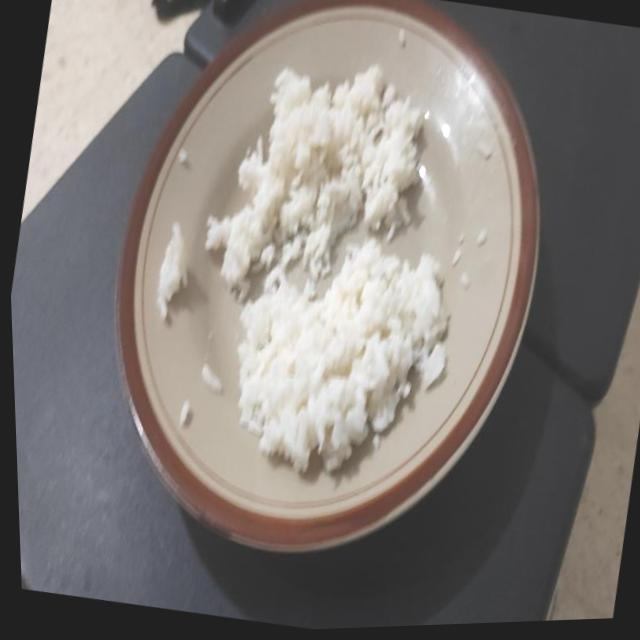nasi_putih: (205, 65, 422, 292), (238, 238, 447, 472)
